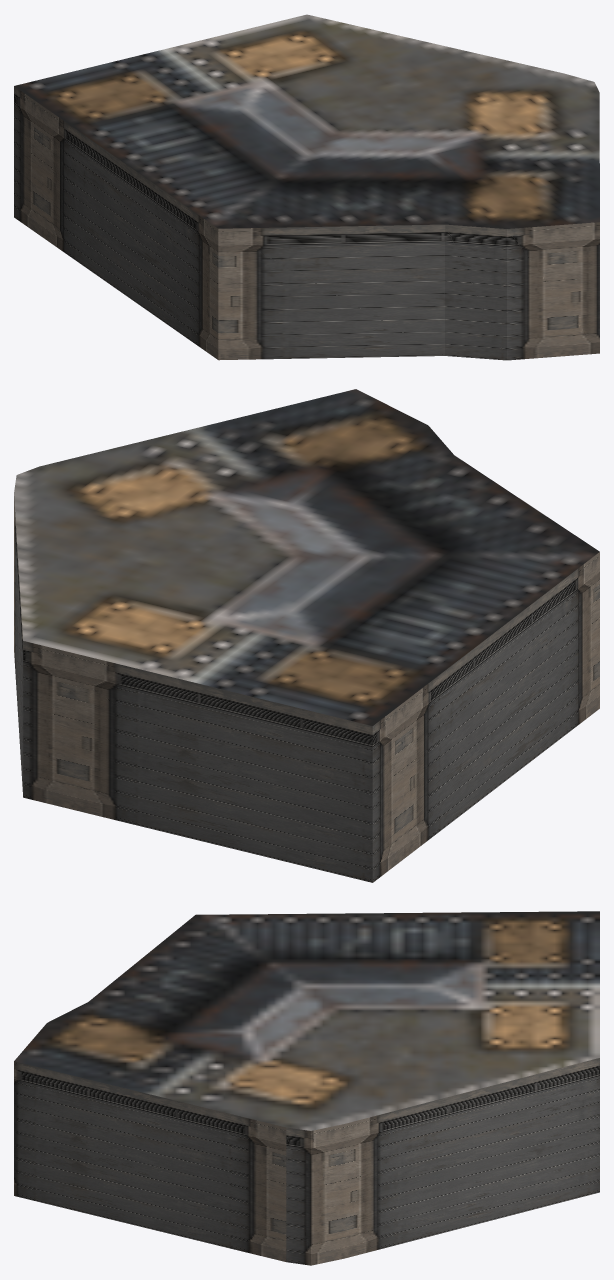
File: hangar_hard_a_07.glb
The picture shows the model from 3 angles, top to bottom: view 1: azimuth 30°, elevation 25°; view 2: azimuth 150°, elevation 25°; view 3: azimuth 270°, elevation 25°; orthographic projection. The views are drawn at different scales.
Visible parts, largest first — view 1: buildings/saxarba/hangar_hard/hangar_hard_a_07; view 2: buildings/saxarba/hangar_hard/hangar_hard_a_07; view 3: buildings/saxarba/hangar_hard/hangar_hard_a_07.
Boxes of the visible parts, x1,y1,x2,y2 form: buildings/saxarba/hangar_hard/hangar_hard_a_07: [14, 14, 599, 360]; buildings/saxarba/hangar_hard/hangar_hard_a_07: [14, 389, 599, 882]; buildings/saxarba/hangar_hard/hangar_hard_a_07: [14, 911, 599, 1265].
Bounding box in the file's own units: 63 × 18 × 71.
